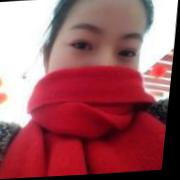WRONG: (39, 11, 151, 119)
